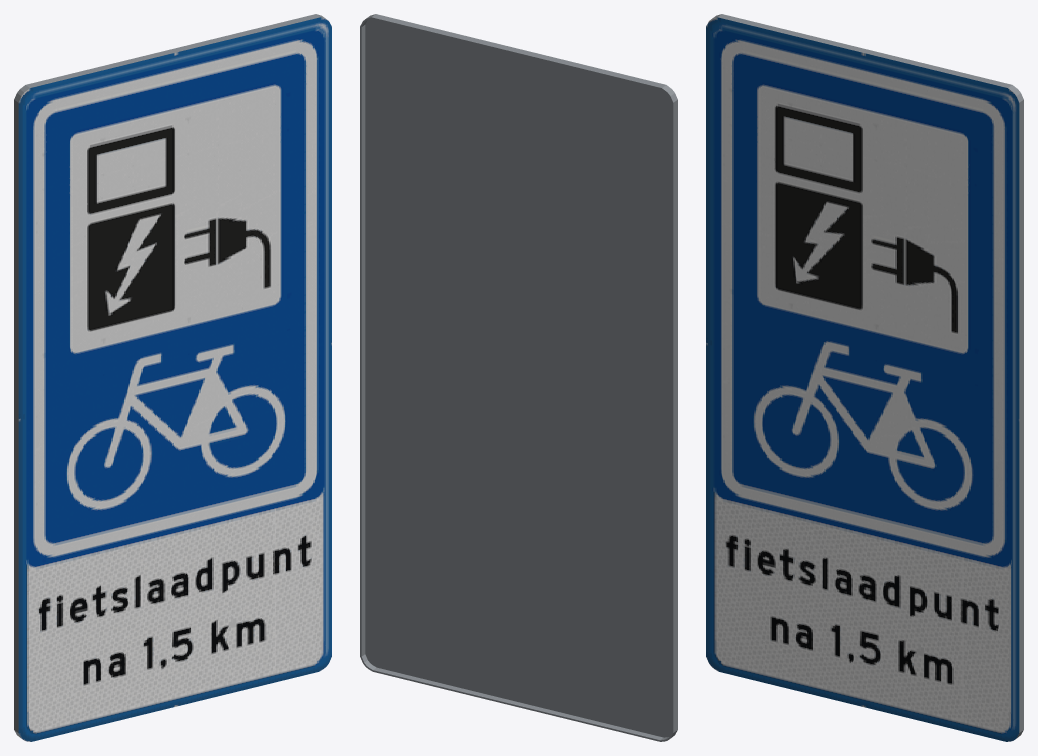
3 renders of one model, left to right at view 1: azimuth 30°, elevation 25°; view 2: azimuth 150°, elevation 25°; view 3: azimuth 330°, elevation 25°, orthographic.
Parts seen in each view (by area): view 1: cat_cab2eb21ccea7d1f; view 2: cat_cab2eb21ccea7d1f; view 3: cat_cab2eb21ccea7d1f.
Boxes of the visible parts, x1,y1,x2,y2 form: cat_cab2eb21ccea7d1f: [14, 14, 331, 741]; cat_cab2eb21ccea7d1f: [360, 14, 677, 741]; cat_cab2eb21ccea7d1f: [706, 14, 1023, 741].
Size of the model in its own units: 0.6 by 0.015 by 1.2.
2 materials, 1 textured.
